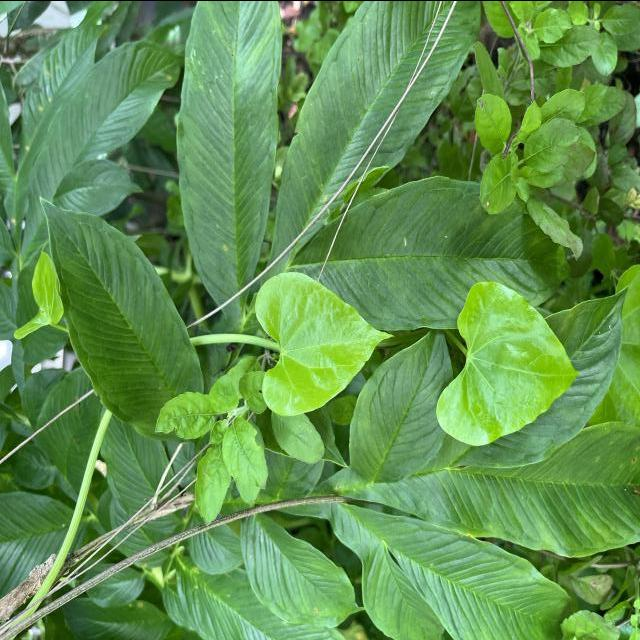Tinospora cordifolia: (433, 278, 580, 448), (252, 269, 398, 418)
